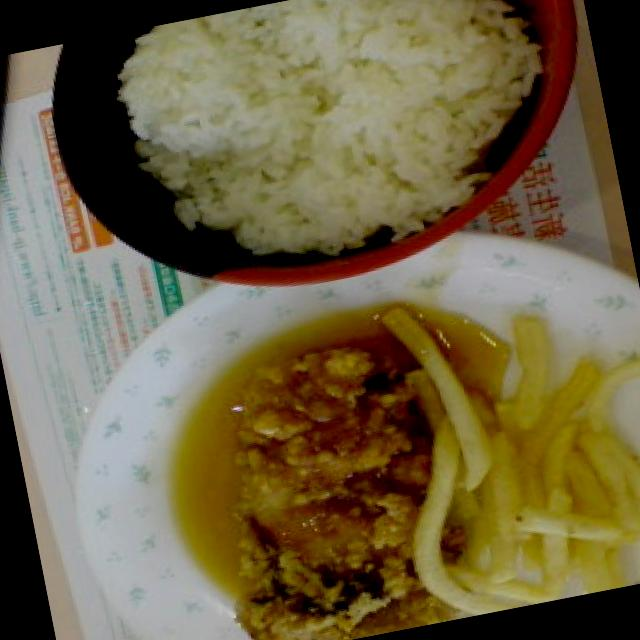Rice: (102, 0, 555, 268)
